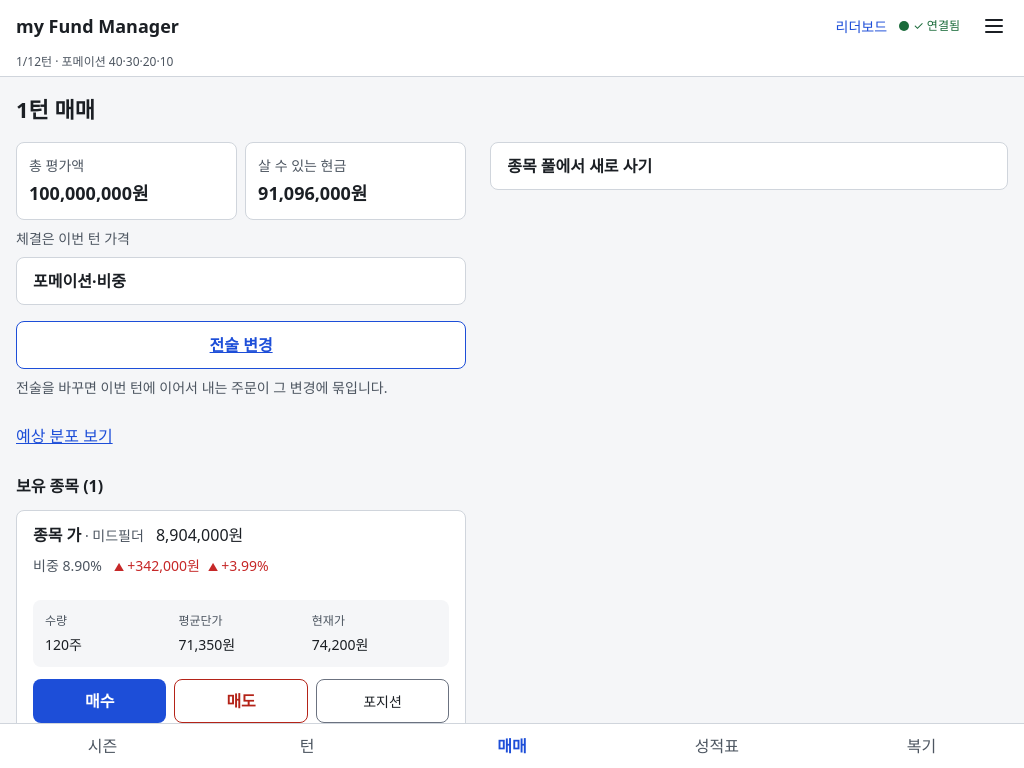
Test: sell sheet › has no position control and limits the quantity to the holding
Click the button with aria-label "종목 가 매도".
click(241, 701)  # box [174,679,308,723]
(page scrolled)
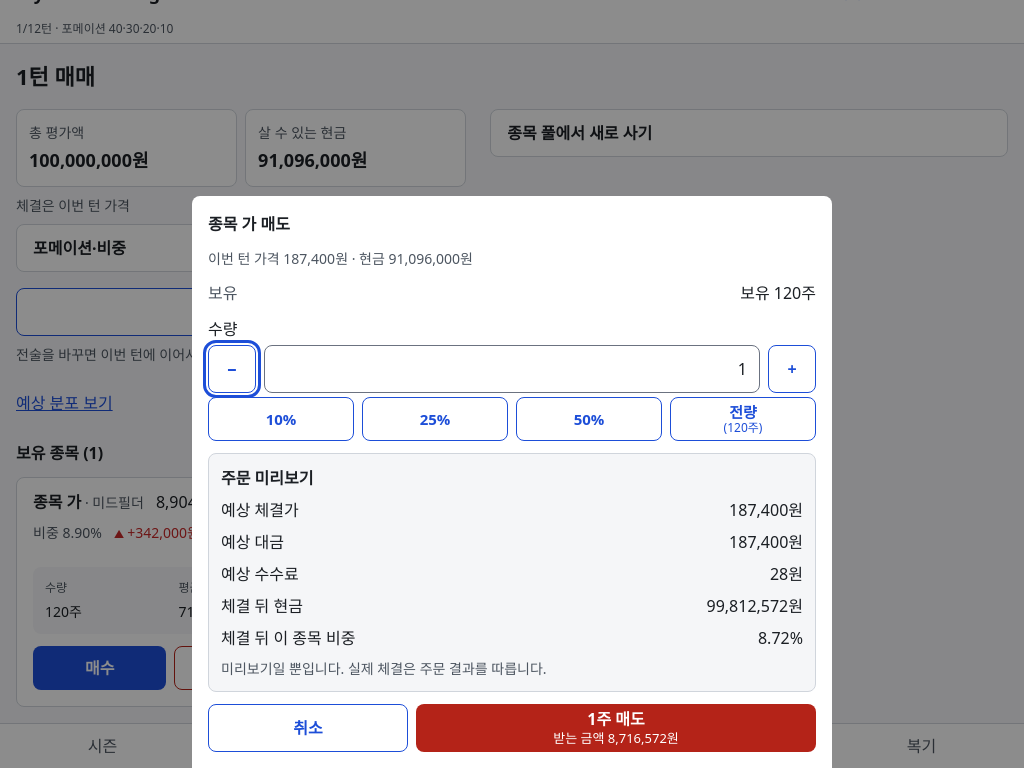
Now the text "보유 120주" is shown, box [740,281,816,305]
Clear the field labelled "수량" at {"x": 512, "y": 369}, box [264,345,760,393]
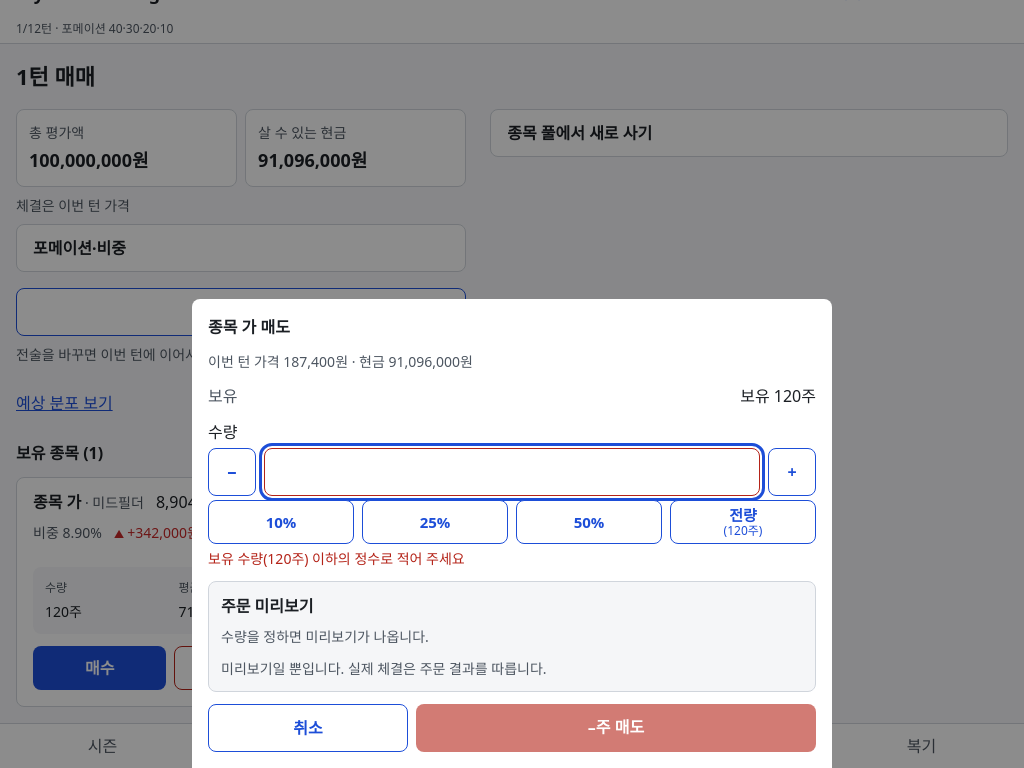
Now the button "–주 매도" is disabled, box [416,704,816,752]
Now the text "보유 수량(120주) 이하의 정수로 적어 주세요" is shown, box [208,549,465,568]
Type "0" into the field labelled "수량".
click(512, 472); type("0")  # box [264,448,760,496]
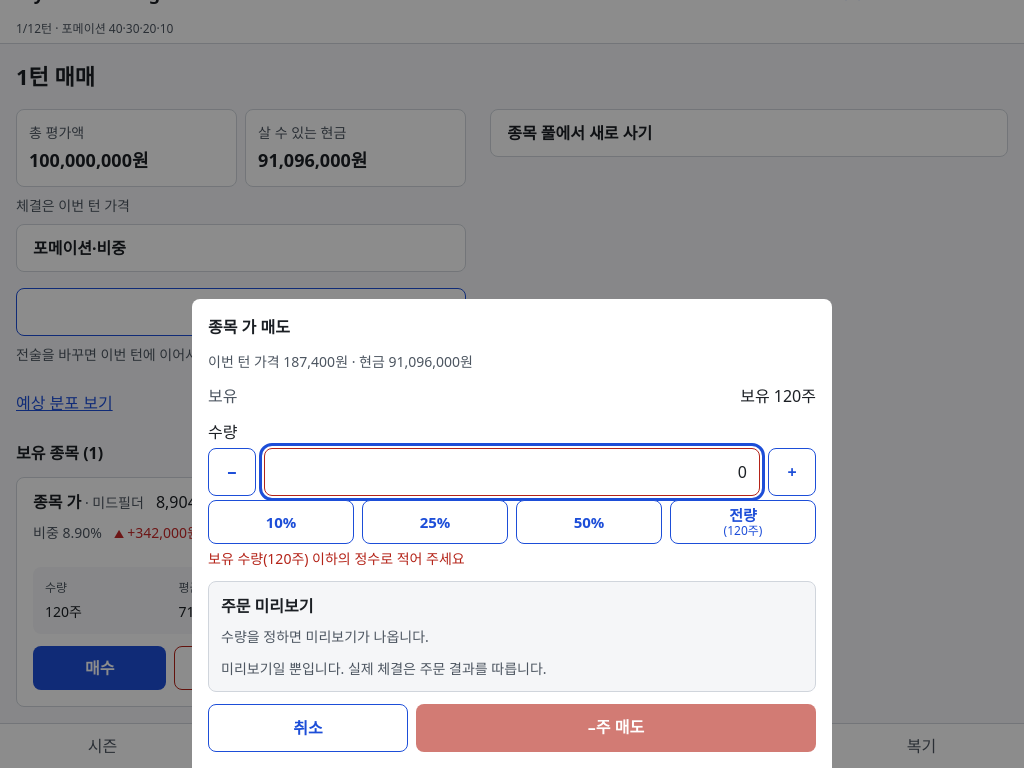
Now the button "–주 매도" is disabled, box [416,704,816,752]
Now the text "보유 수량(120주) 이하의 정수로 적어 주세요" is shown, box [208,549,465,568]
Replace the text in the field labelled "수량" with "1.5" at {"x": 512, "y": 472}, box [264,448,760,496]
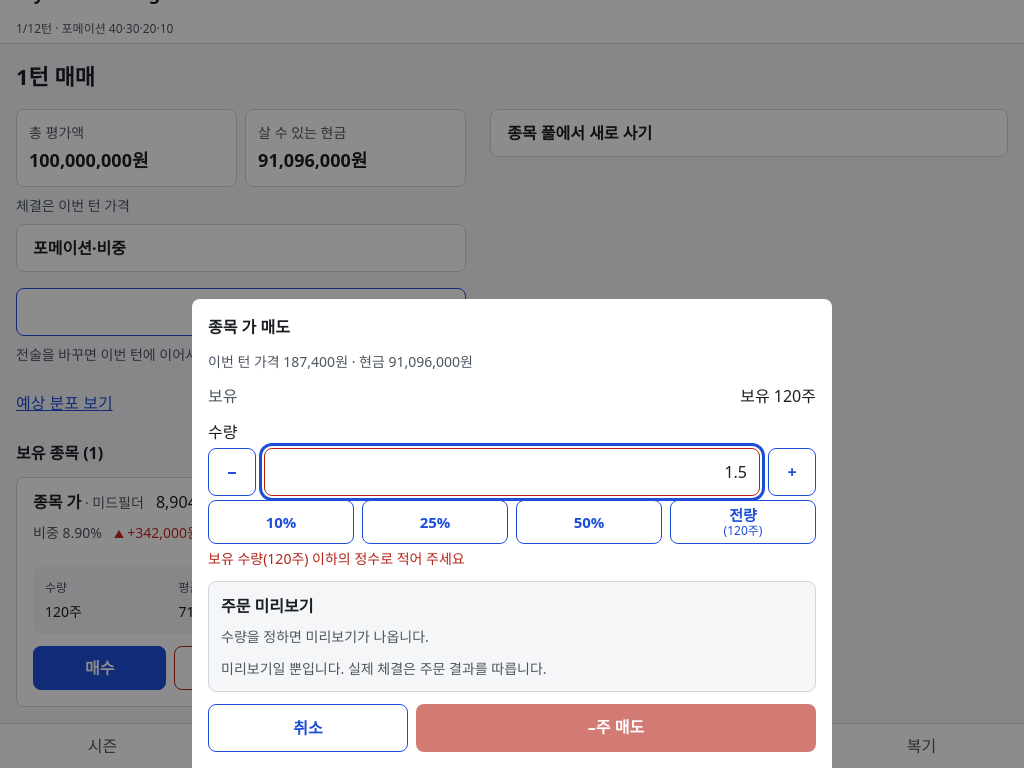
Now the button "–주 매도" is disabled, box [416,704,816,752]
Now the text "보유 수량(120주) 이하의 정수로 적어 주세요" is shown, box [208,549,465,568]
Replace the text in the field labelled "수량" with "121" at {"x": 512, "y": 472}, box [264,448,760,496]
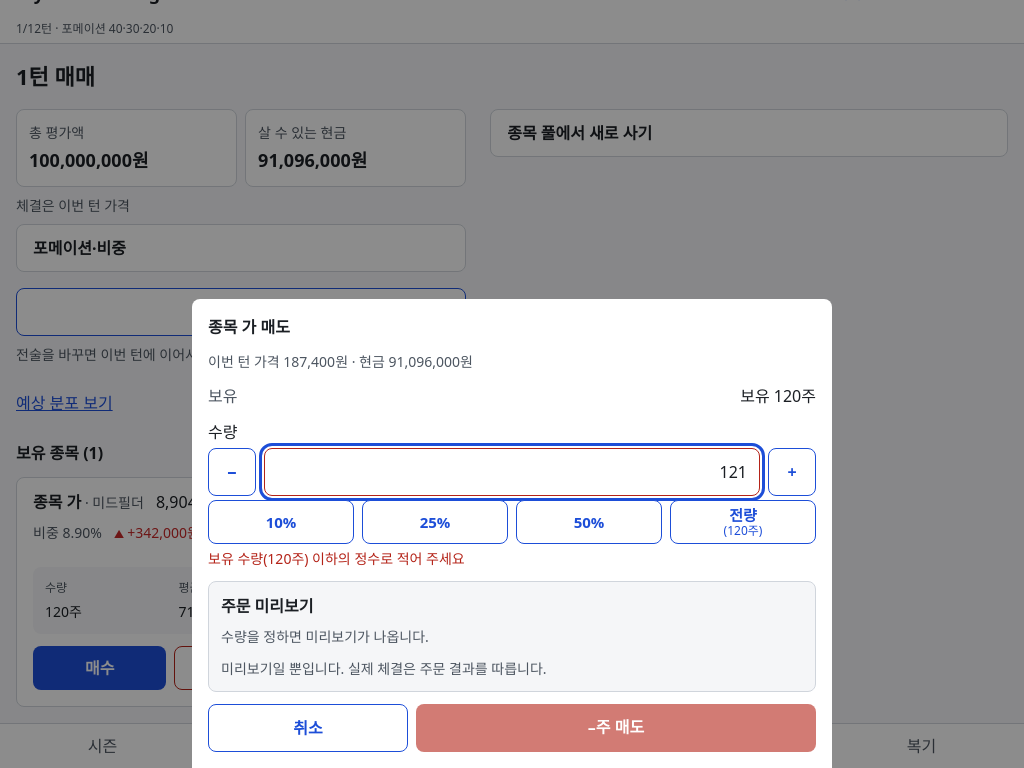
Now the button "–주 매도" is disabled, box [416,704,816,752]
Now the text "보유 수량(120주) 이하의 정수로 적어 주세요" is shown, box [208,549,465,568]
Click the button "전량 (120주)".
click(743, 522)  # box [670,500,816,544]
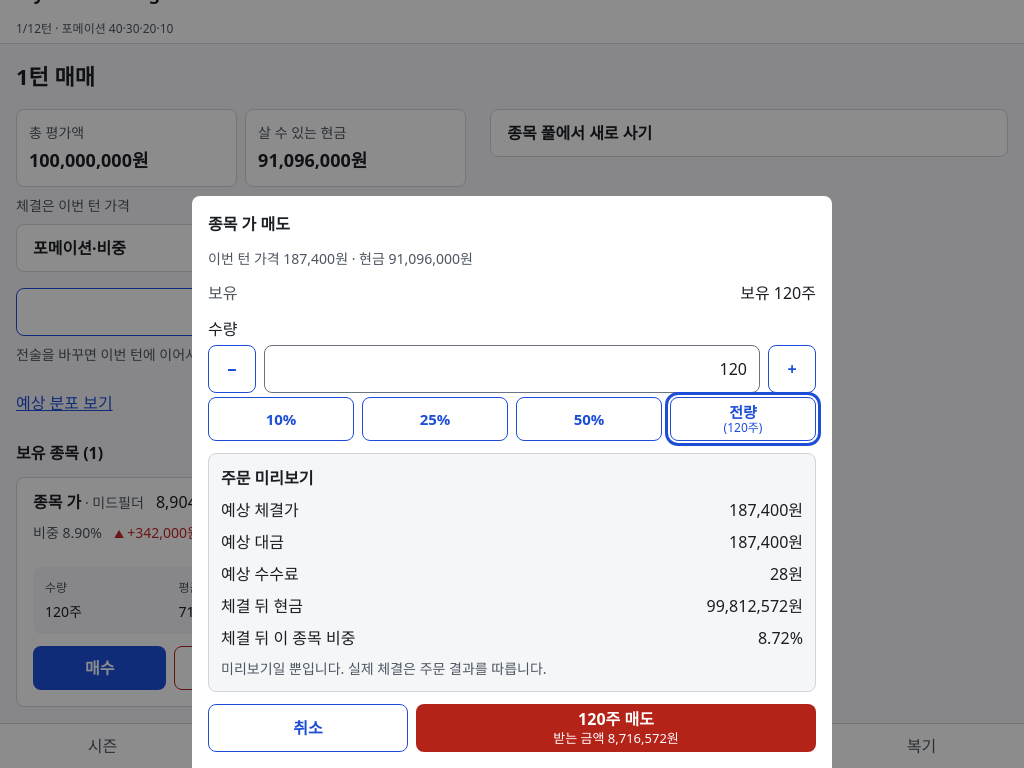
Now the field labelled "수량" holds "120", box [264,345,760,393]
Now the button "120주 매도 받는 금액 8,716,572원" is enabled, box [416,704,816,752]
